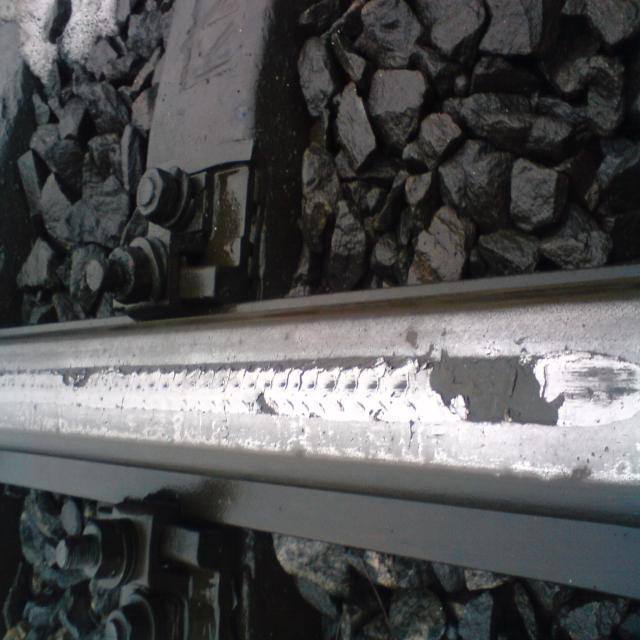railway_join_bar_defects_low: (52, 357, 638, 426)
